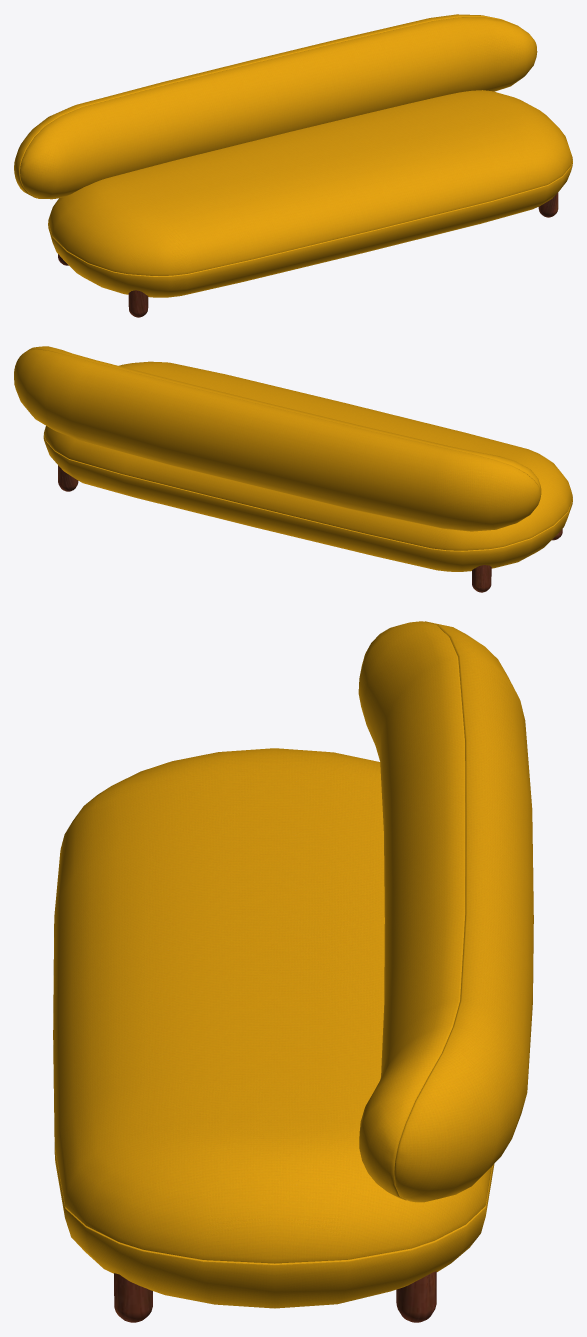
The model's file is greenwaffle_wood-transformed.glb.
The picture shows the model from 3 angles, top to bottom: view 1: azimuth 30°, elevation 25°; view 2: azimuth 150°, elevation 25°; view 3: azimuth 270°, elevation 25°; orthographic projection. The views are drawn at different scales.
Visible parts, largest first — view 1: Divano_3; view 2: Divano_3; view 3: Divano_3.
Part boxes in pixels (x1,y1,x2,y2): Divano_3: (14,14,572,317); Divano_3: (14,346,572,592); Divano_3: (53,621,533,1322).
Bounding box in the file's own units: 2.97 × 0.792 × 1.19.
2 materials, 2 textured.
